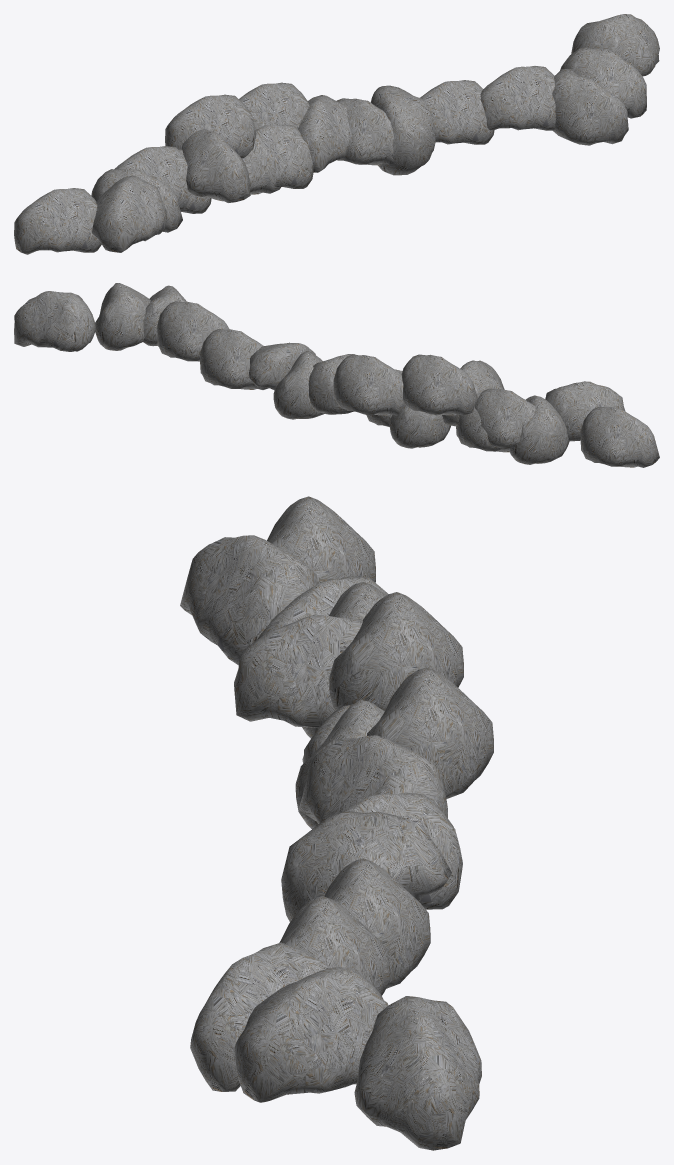
The model's file is RocksBack.fbx.
3 renders of one model, top to bottom at view 1: azimuth 30°, elevation 25°; view 2: azimuth 150°, elevation 25°; view 3: azimuth 270°, elevation 25°, orthographic. The views are drawn at different scales.
Parts seen in each view (by area): view 1: polySurface207; view 2: polySurface207; view 3: polySurface207.
Boxes of the visible parts, box(x1,y1,x2,y2) form: polySurface207: box(14, 14, 659, 254); polySurface207: box(14, 283, 659, 467); polySurface207: box(180, 496, 493, 1150).
Size of the model in its own units: 509 by 77.67 by 114.
1 material, 1 textured.
